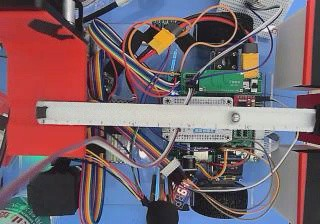ironball: (230, 112, 239, 122)
